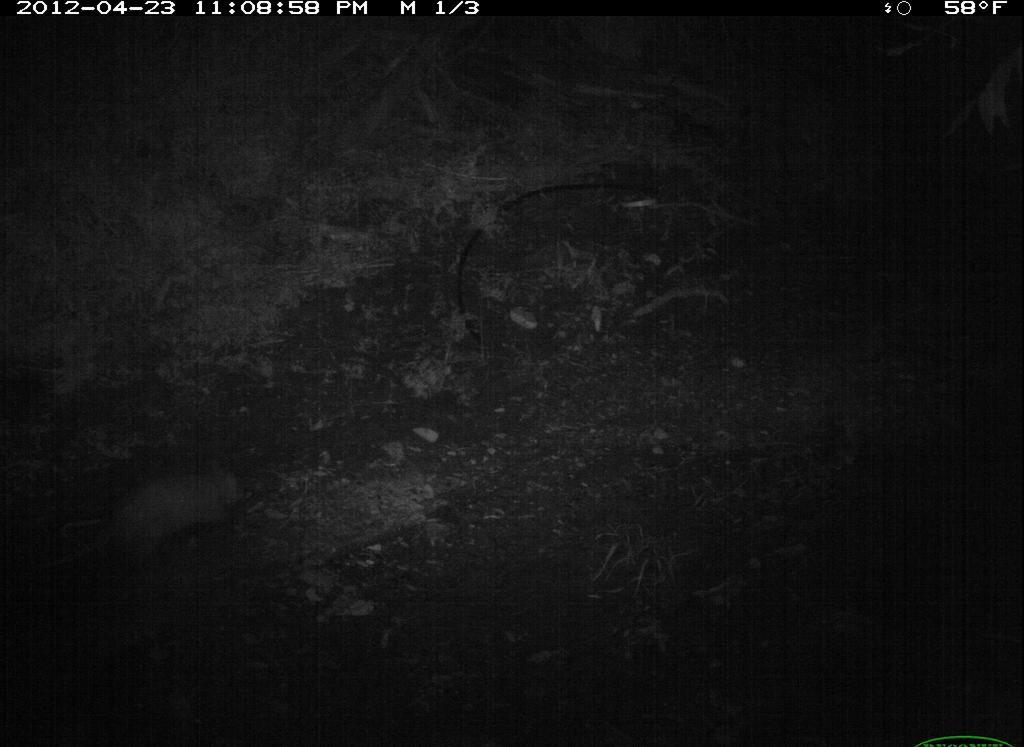opossum: (24, 445, 274, 580)
